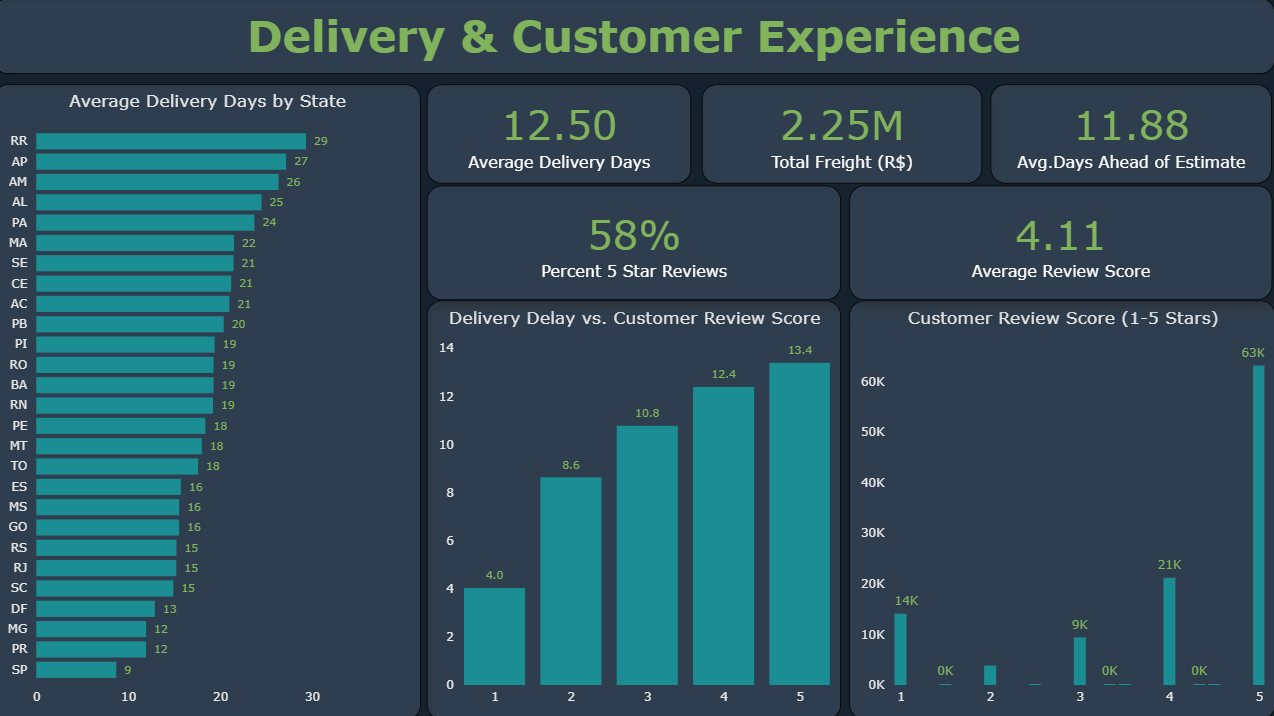

Layout of this report page (visuals, bound fields, positions):
{"tool":"powerbi","page":{"name":"Delivery & Customer Experience","canvas":[1280,720],"ordinal":1},"visuals":[{"type":"card","fields":{"Values":["fact_order_items.Average Delivery Difference"]},"box":[995.3,85.7,281.1,98.9],"z":0},{"type":"clusteredColumnChart","title":" Delivery Delay vs. Customer Review Score","fields":{"Y":["fact_order_items.Avg Delay by Review"],"Category":["fact_order_items.Review Score Rounded"]},"box":[433.1,301.6,413.8,418.6],"z":1000},{"type":"clusteredBarChart","title":"Average Delivery Days by State","fields":{"Category":["dim_customers.customer_state"],"Y":["fact_order_items.Average Delivery Days"]},"box":[0,85.7,427.1,634.6],"z":2000},{"type":"clusteredColumnChart","title":"Customer Review Score (1-5 Stars)","fields":{"Category":["fact_order_items.review_score"],"Y":["CountNonNull(fact_order_items.order_id)"]},"box":[854.2,301.6,425.9,418.6],"z":3000},{"type":"card","fields":{"Values":["fact_order_items.Total Freight"]},"box":[707,85.7,279.9,98.9],"z":4000},{"type":"card","fields":{"Values":["fact_order_items.Average Delivery Days"]},"box":[433.1,85.7,264.2,98.9],"z":5000},{"type":"card","fields":{"Values":["fact_order_items.Percent 5 Star Reviews"]},"box":[433.1,187,413.8,114.6],"z":6000},{"type":"card","fields":{"Values":["fact_order_items.Average Review Score"]},"box":[854.2,187,422.3,114.6],"z":7000},{"type":"textbox","box":[0,0,1280,76],"z":8000}]}

Visuals, with their boxes in screenshot pixels (x1, y1, x2, y2), scaled from the page's 1280x720 canvas onto the 1274x716 screenshot:
card - fact_order_items.Average Delivery Difference: [left=991, top=85, right=1270, bottom=184]
" Delivery Delay vs. Customer Review Score" clusteredColumnChart: [left=431, top=300, right=843, bottom=715]
"Average Delivery Days by State" clusteredBarChart: [left=0, top=85, right=425, bottom=715]
"Customer Review Score (1-5 Stars)" clusteredColumnChart: [left=850, top=300, right=1273, bottom=715]
card - fact_order_items.Total Freight: [left=704, top=85, right=982, bottom=184]
card - fact_order_items.Average Delivery Days: [left=431, top=85, right=694, bottom=184]
card - fact_order_items.Percent 5 Star Reviews: [left=431, top=186, right=843, bottom=300]
card - fact_order_items.Average Review Score: [left=850, top=186, right=1271, bottom=300]
textbox: [left=0, top=0, right=1273, bottom=76]
